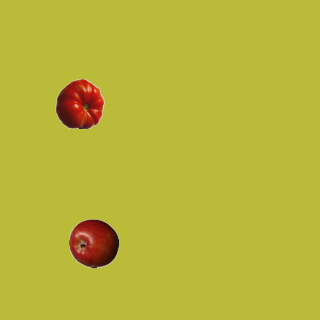Apple Braeburn: (68, 218, 118, 268)
Tomato 3: (54, 78, 104, 128)
